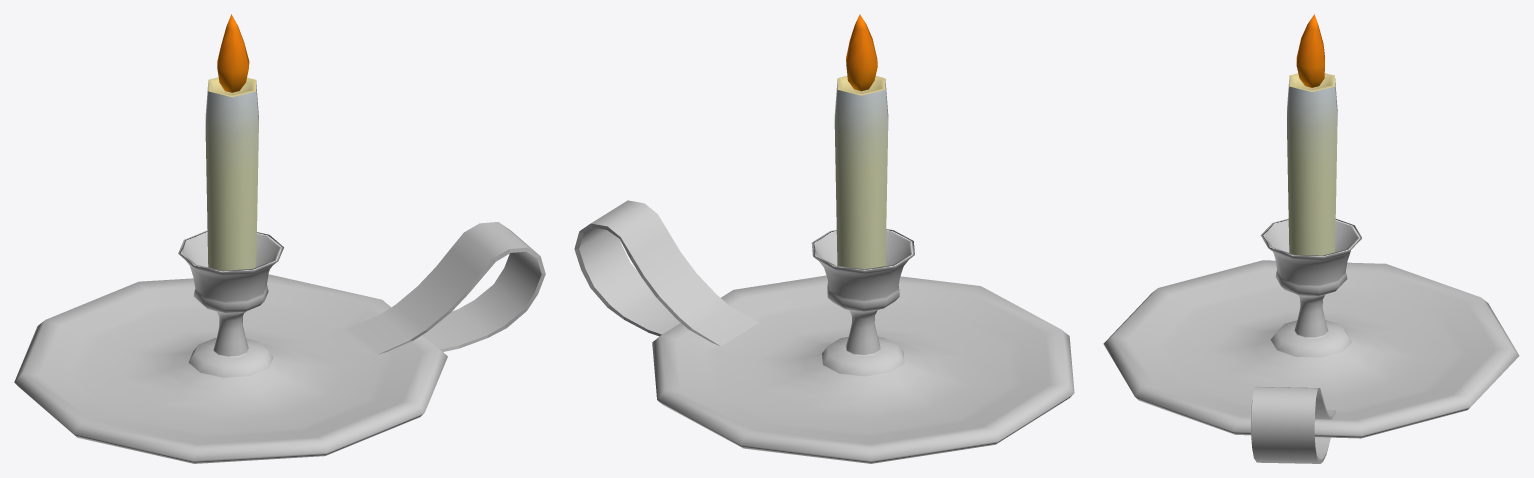
Rendered from BgMD_candle_candleholder.fbx.
The picture shows the model from 3 angles, left to right: view 1: azimuth 30°, elevation 25°; view 2: azimuth 150°, elevation 25°; view 3: azimuth 270°, elevation 25°; orthographic projection. The views are drawn at different scales.
Visible parts, largest first — view 1: Bg_candleholder, Bg_candle_02; view 2: Bg_candleholder, Bg_candle_02; view 3: Bg_candleholder, Bg_candle_02.
Boxes of the visible parts, left/top/right/bottom form: Bg_candleholder: left=14, top=222, right=545, bottom=463; Bg_candle_02: left=205, top=14, right=258, bottom=270; Bg_candleholder: left=574, top=200, right=1074, bottom=463; Bg_candle_02: left=834, top=14, right=888, bottom=269; Bg_candleholder: left=1103, top=218, right=1519, bottom=463; Bg_candle_02: left=1287, top=14, right=1337, bottom=255.
Bounding box in the file's own units: 84.03 × 62.17 × 67.6.
